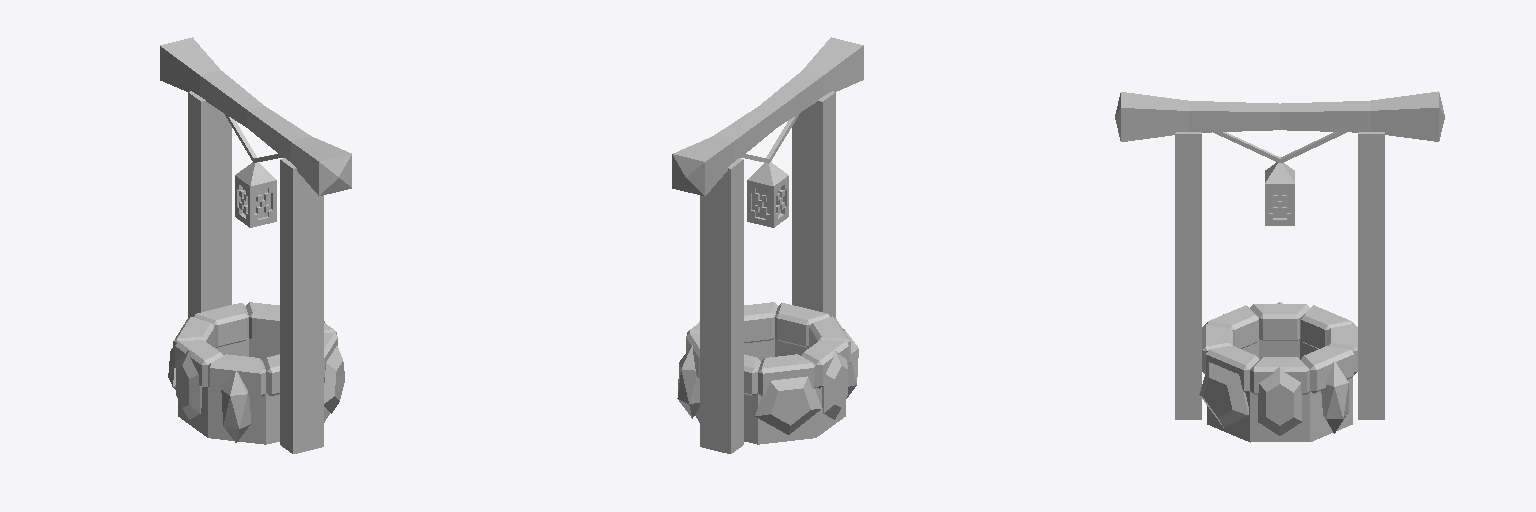
The model's file is bank.obj.
3 views of the same model, side by side, from view 1: azimuth 30°, elevation 25°; view 2: azimuth 150°, elevation 25°; view 3: azimuth 270°, elevation 25° (orthographic).
Parts seen in each view (by area): view 1: object6.016, object11.002, object5.019, object12.002, object8.006, Cube_Cube.001, 1_Icosphere.001, Rupia_Cube.002, 5_Icosphere.001; view 2: object11.002, object6.016, object5.019, object12.002, object8.006, 5_Icosphere.016, Cube_Cube.001, Rupia_Cube.002, 1_Icosphere.018; view 3: object5.019, object12.002, object11.002, object6.016, object8.006, Rupia_Cube.001, 5_Icosphere.001, Cube_Cube.001, 1_Icosphere.018, Cube.002_Cube.003.
Part boxes in pixels (bbox=[...]): object6.016: bbox=[280, 158, 323, 453]; object11.002: bbox=[188, 91, 231, 317]; object5.019: bbox=[160, 37, 351, 195]; object12.002: bbox=[173, 302, 337, 396]; object8.006: bbox=[178, 338, 329, 444]; Cube_Cube.001: bbox=[235, 162, 276, 227]; 1_Icosphere.001: bbox=[221, 370, 250, 442]; Rupia_Cube.002: bbox=[176, 351, 201, 419]; 5_Icosphere.001: bbox=[324, 346, 344, 413]; object11.002: bbox=[700, 158, 743, 453]; object6.016: bbox=[792, 91, 835, 317]; object5.019: bbox=[672, 37, 863, 195]; object12.002: bbox=[686, 302, 850, 396]; object8.006: bbox=[695, 338, 845, 444]; 5_Icosphere.016: bbox=[755, 376, 821, 434]; Cube_Cube.001: bbox=[747, 162, 788, 227]; Rupia_Cube.002: bbox=[822, 351, 847, 419]; 1_Icosphere.018: bbox=[677, 345, 699, 418]; object5.019: bbox=[1115, 91, 1444, 141]; object12.002: bbox=[1202, 304, 1357, 394]; object11.002: bbox=[1358, 132, 1384, 419]; object6.016: bbox=[1175, 132, 1201, 419]; object8.006: bbox=[1207, 339, 1352, 442]; Rupia_Cube.001: bbox=[1258, 367, 1301, 435]; 5_Icosphere.001: bbox=[1199, 362, 1248, 427]; Cube_Cube.001: bbox=[1265, 162, 1294, 225]; 1_Icosphere.018: bbox=[1321, 360, 1348, 433]; Cube.002_Cube.003: bbox=[1213, 132, 1346, 162].
Size of the model in its own units: 34.32 by 69.6 by 66.64.